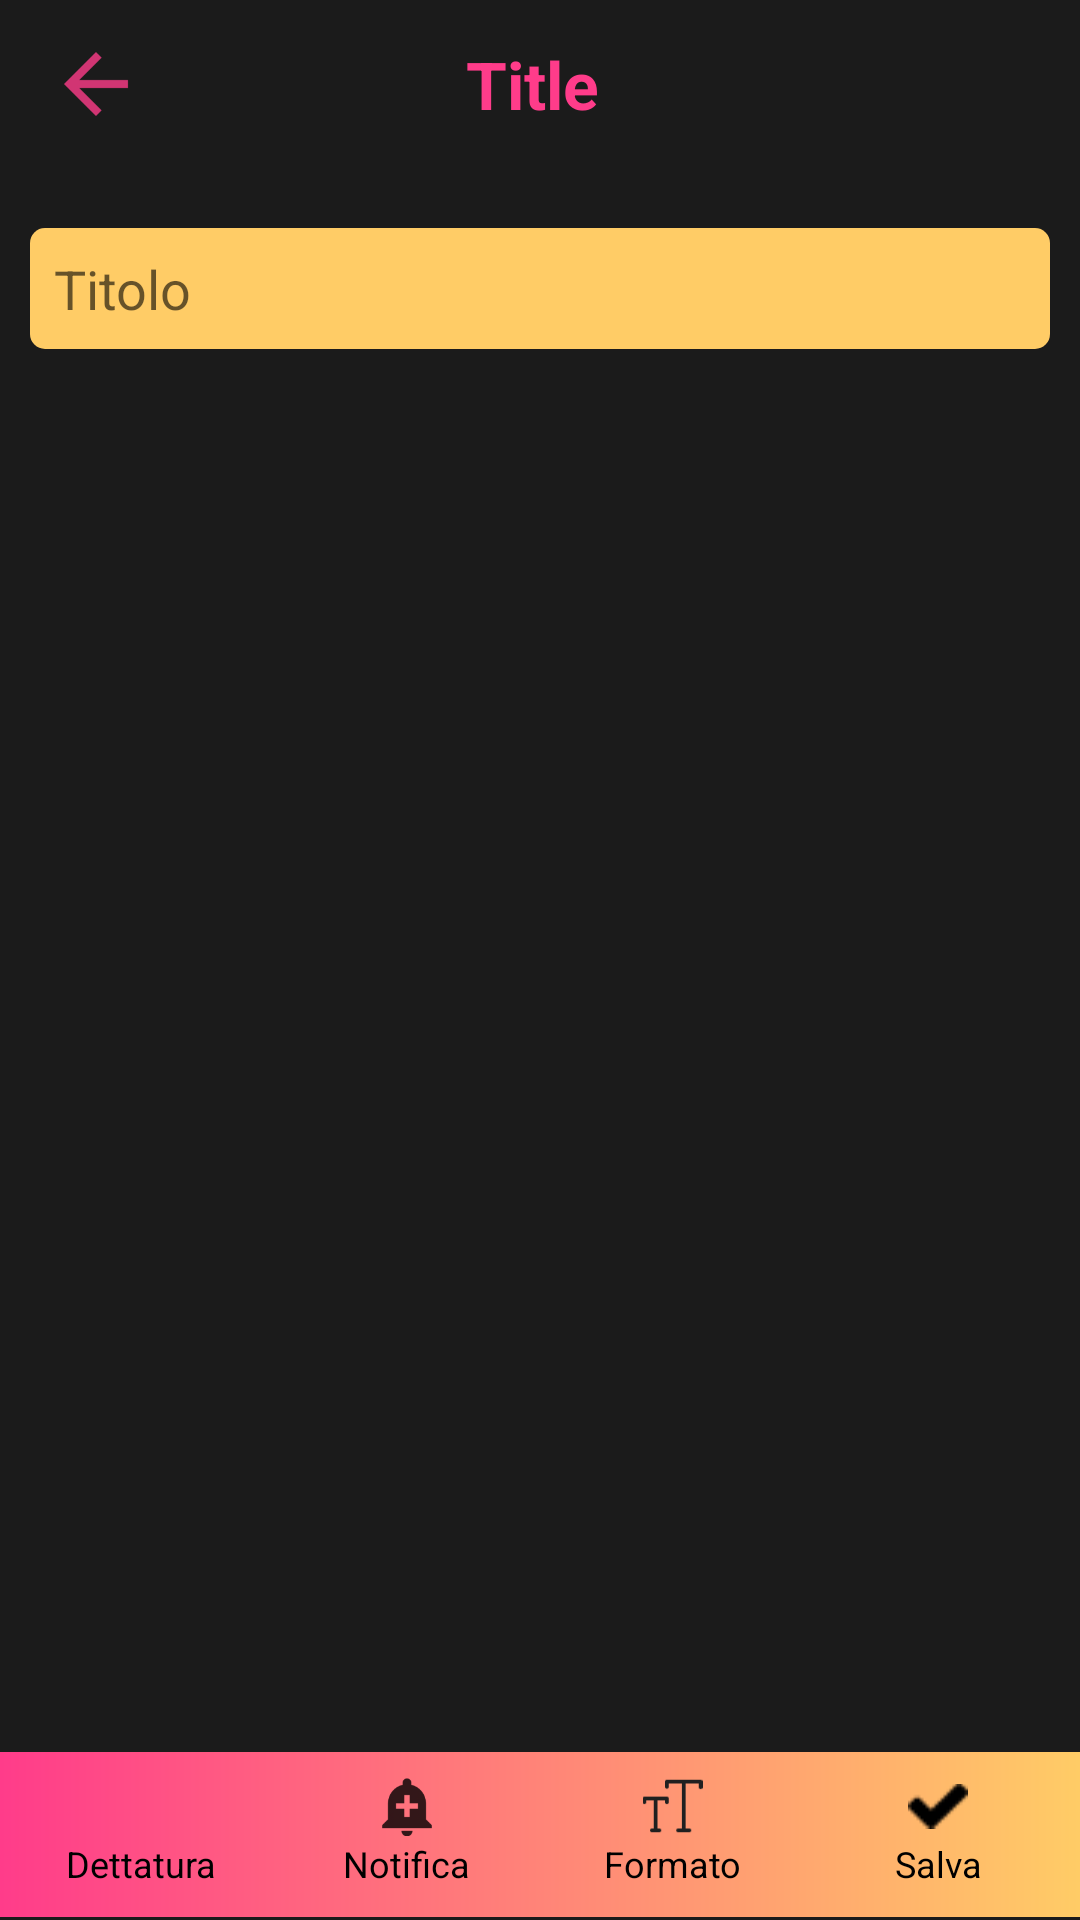

Screen size 1080x1920. Icon name, then its center in pixels as point (x, y):
back: point (96, 84)
done: point (938, 1806)
